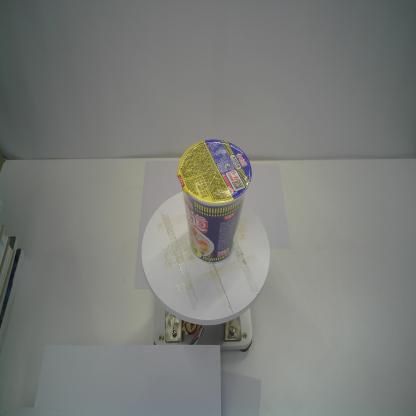Instant Noodles: (176, 137, 252, 267)
